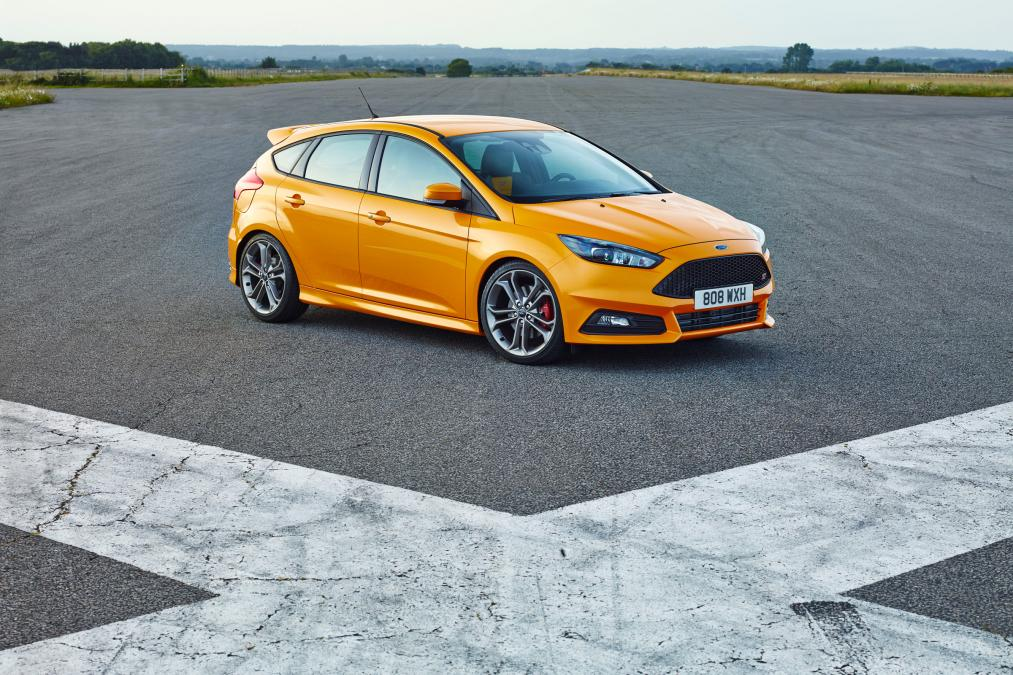car: (223, 109, 780, 364)
